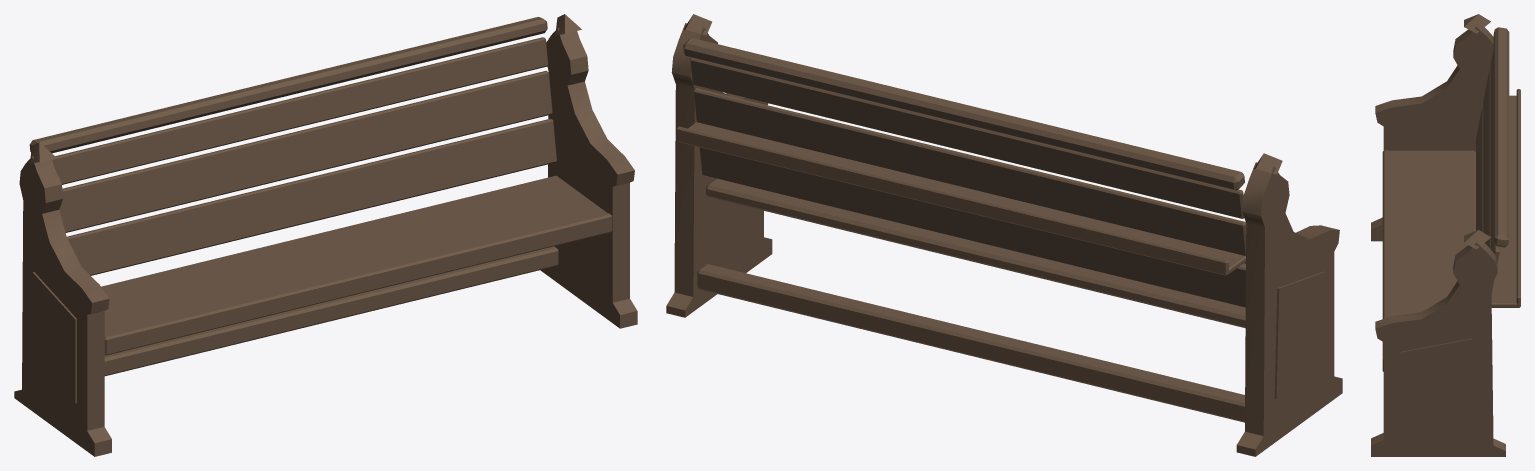
File: pew.glb
The picture shows the model from 3 angles, left to right: view 1: azimuth 30°, elevation 25°; view 2: azimuth 150°, elevation 25°; view 3: azimuth 270°, elevation 25°; orthographic projection. The views are drawn at different scales.
Parts seen in each view (by area): view 1: pew; view 2: pew; view 3: pew.
Boxes of the visible parts, bbox=[...] form: pew: bbox=[14, 14, 637, 456]; pew: bbox=[666, 14, 1342, 456]; pew: bbox=[1371, 14, 1520, 456].
Bounding box in the file's own units: 2.52 × 1.17 × 0.71.
